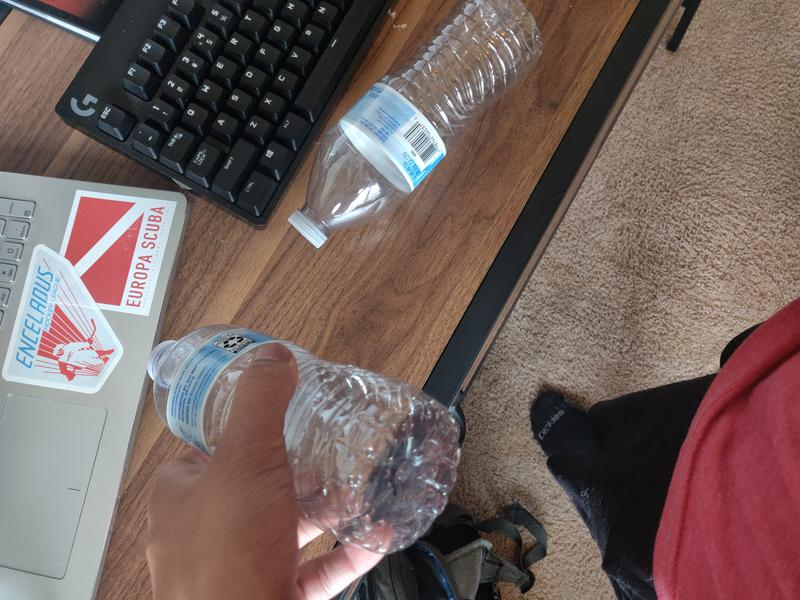bottle: (148, 324, 461, 553), (288, 1, 543, 251)
